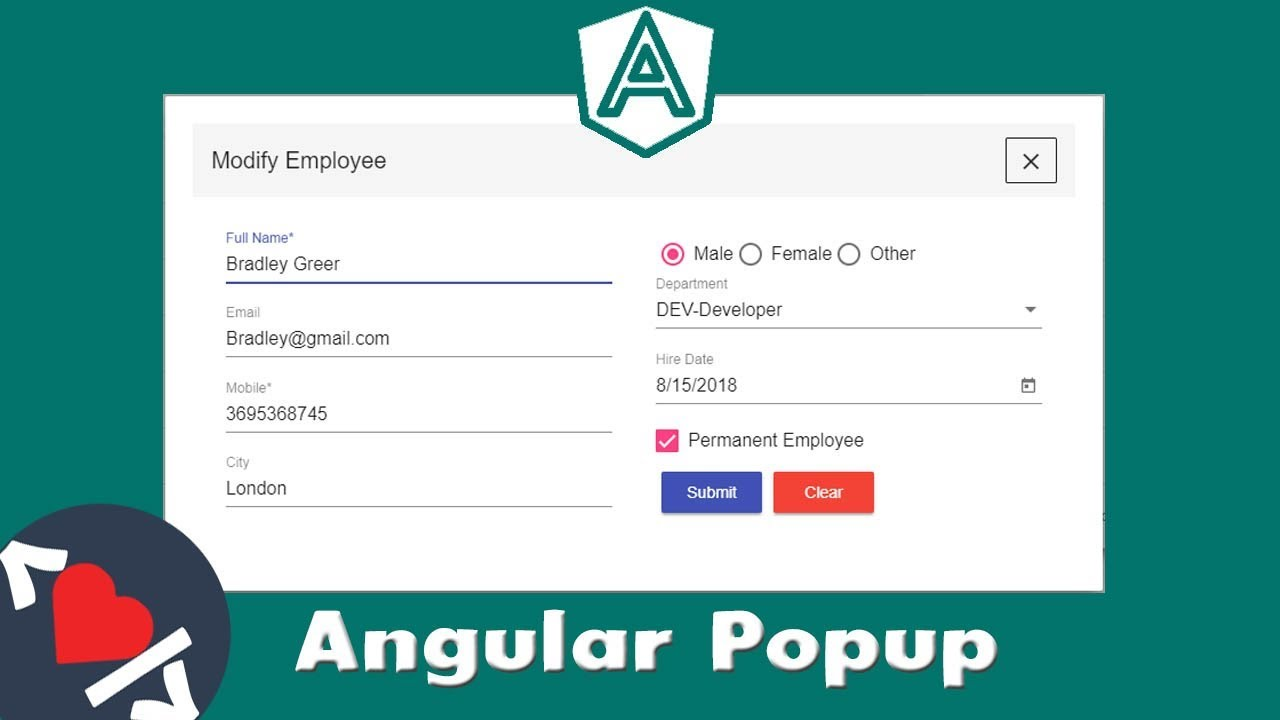_form_: (211, 143, 627, 559), (643, 128, 1059, 544)
button: (772, 469, 878, 517), (662, 468, 766, 514)
checkbox: (653, 427, 684, 456)
checkbox_with_label: (648, 424, 868, 458)
field_line: (220, 473, 618, 513), (224, 249, 615, 288), (652, 368, 1043, 407), (220, 398, 616, 436), (223, 326, 616, 362), (655, 293, 1045, 329)
field_line_with_label: (217, 454, 619, 516), (222, 231, 617, 292), (222, 304, 619, 364), (650, 351, 1046, 408), (654, 275, 1046, 331), (218, 382, 617, 437)
radio: (737, 237, 767, 268), (659, 239, 683, 271), (837, 239, 860, 269)
radio_with_label: (732, 234, 836, 271), (655, 234, 734, 273), (836, 234, 912, 272)
